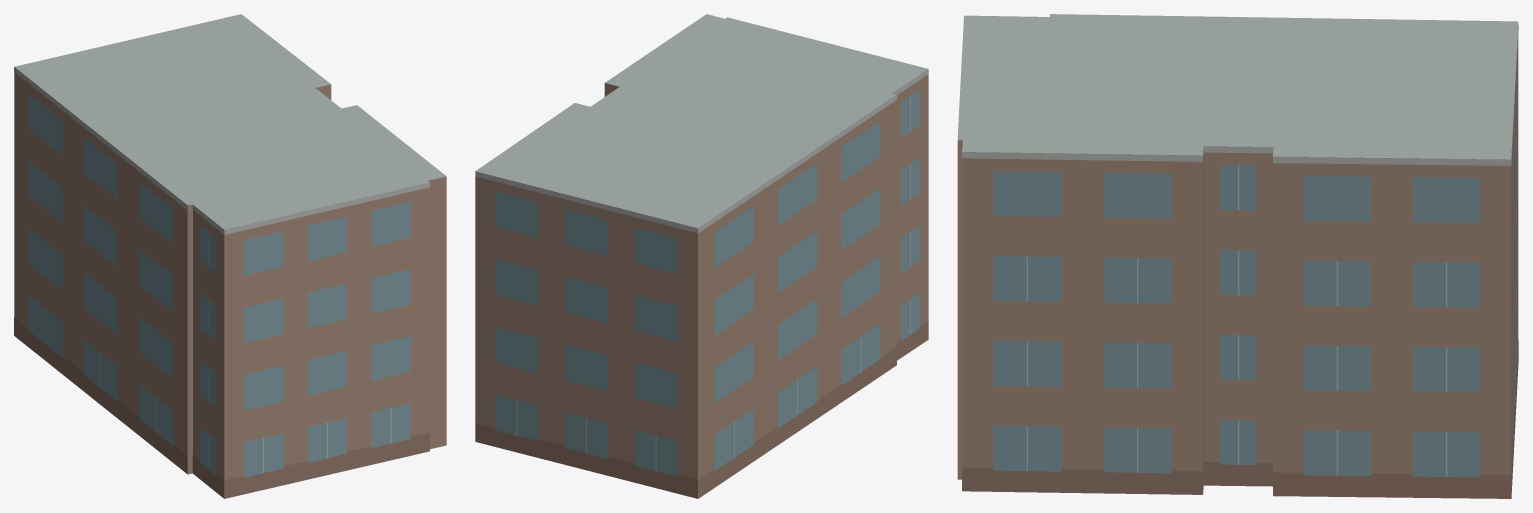
The model's file is survey-upis-32661787.glb.
3 renders of one model, left to right at view 1: azimuth 30°, elevation 25°; view 2: azimuth 150°, elevation 25°; view 3: azimuth 270°, elevation 25°, orthographic. The views are drawn at different scales.
Parts seen in each view (by area): view 1: survey-upis-32661787.tmp; view 2: survey-upis-32661787.tmp; view 3: survey-upis-32661787.tmp.
Boxes of the visible parts, x1,y1,x2,y2 form: survey-upis-32661787.tmp: [14, 14, 446, 498]; survey-upis-32661787.tmp: [475, 14, 928, 498]; survey-upis-32661787.tmp: [957, 14, 1518, 498].
Bounding box in the file's own units: 11.91 × 12.94 × 19.4.
